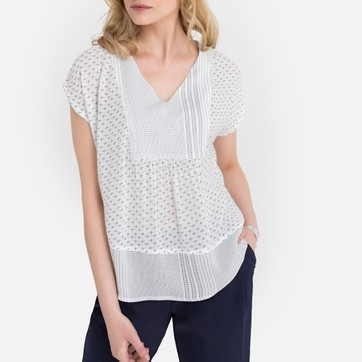S_short blouse: (65, 37, 250, 305)
